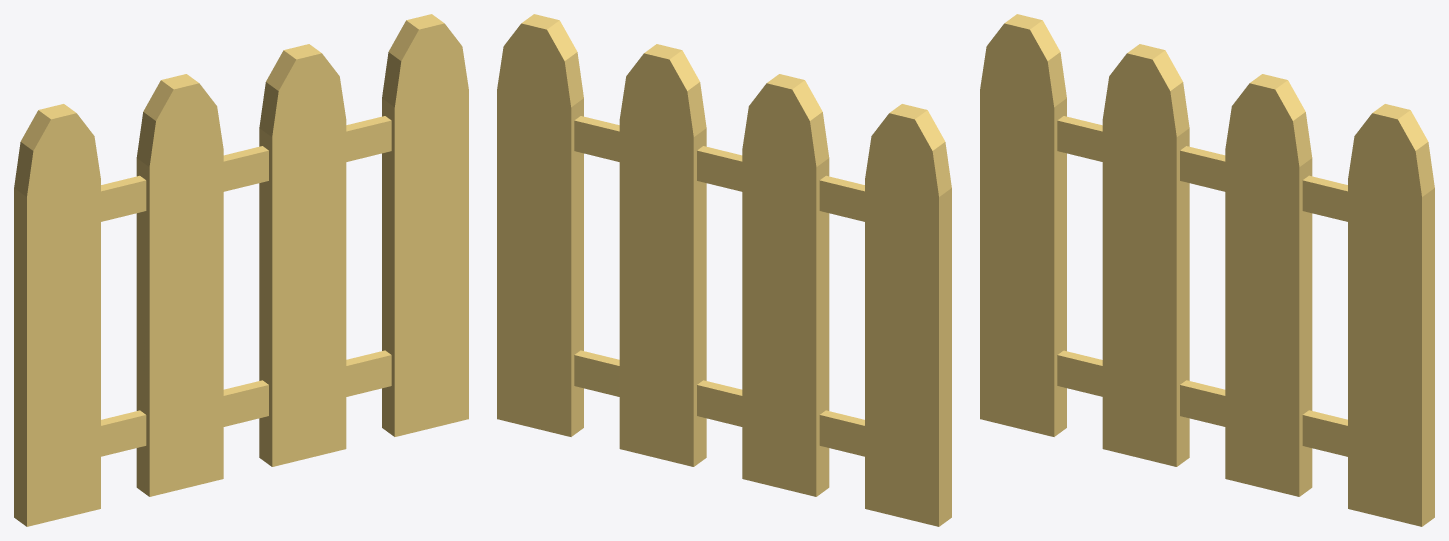
Rendered from fence.fbx.
3 views of the same model, side by side, from view 1: azimuth 30°, elevation 25°; view 2: azimuth 150°, elevation 25°; view 3: azimuth 330°, elevation 25° (orthographic).
Parts seen in each view (by area): view 1: fence1; view 2: fence1; view 3: fence1.
Boxes of the visible parts, x1,y1,x2,y2 form: fence1: [14, 14, 468, 526]; fence1: [497, 14, 951, 526]; fence1: [980, 14, 1434, 526].
Size of the model in its own units: 4.07 by 3.53 by 0.2047.
